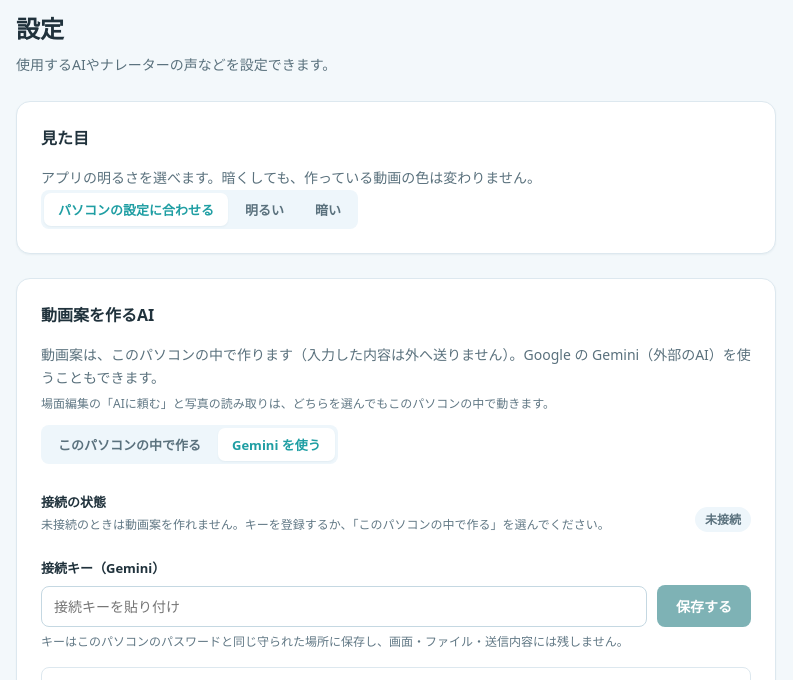
Test: SettingsScreen 接続キー保存の busy 表示（#410 sub4） › 保存中は「保存中…」＋ボタン無効
The image size is (793, 680).
Type "test-key" into the password field with placeholder "接続キーを貼り付け" at coordinates (344, 606), box [41,586,647,627]
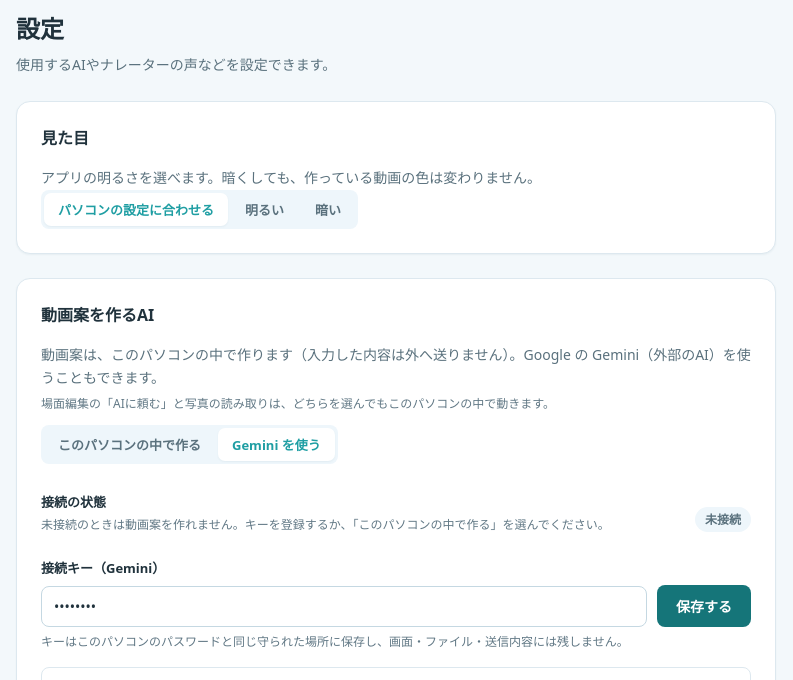
Click the button "保存する" at coordinates (704, 606), box [657,585,751,627]
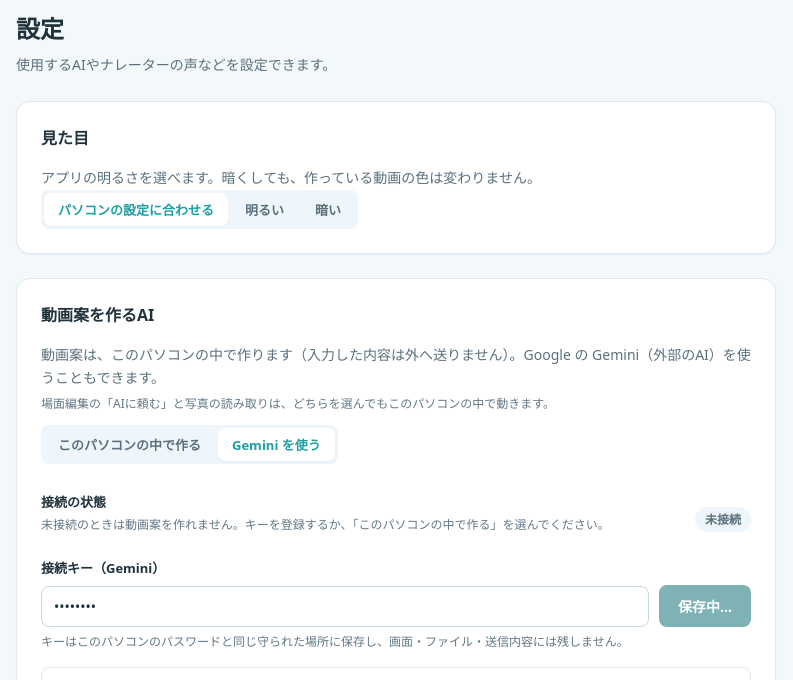
Now the button "保存中…" is disabled, box [659,585,751,627]
